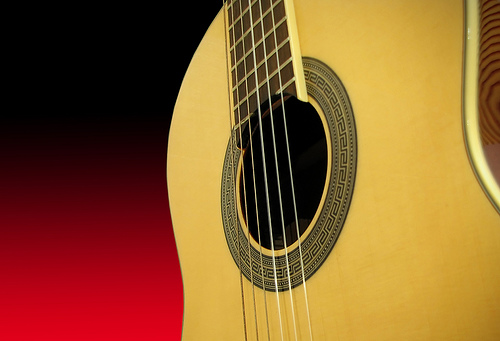guitar: (164, 1, 500, 341)
